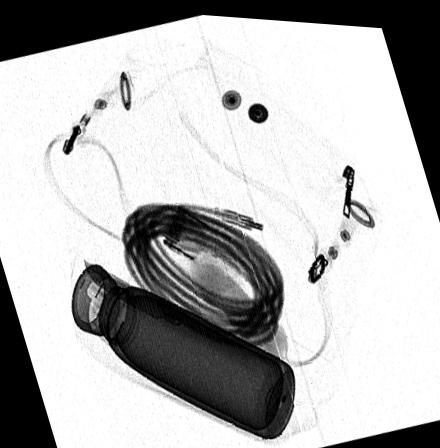Knife: (83, 257, 248, 350)
